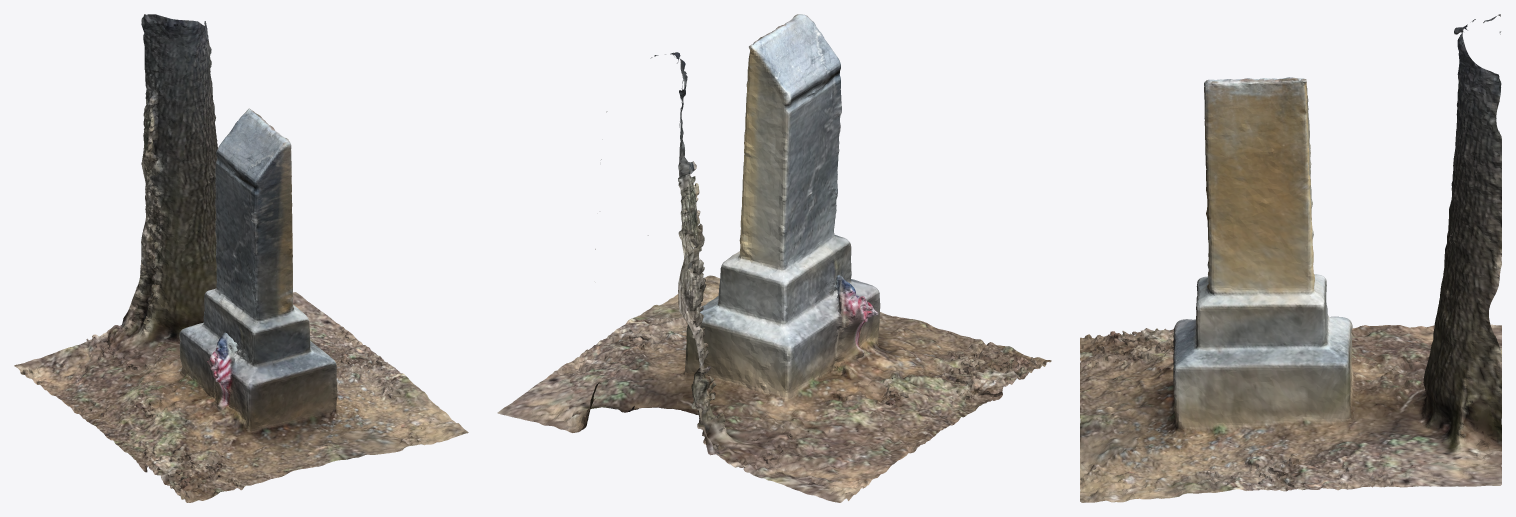
Rendered from crusor.glb.
3 renders of one model, left to right at view 1: azimuth 30°, elevation 25°; view 2: azimuth 150°, elevation 25°; view 3: azimuth 270°, elevation 25°, orthographic. The views are drawn at different scales.
Bounding box in the file's own units: 1.58 × 1.79 × 1.69.
Materials: 1 (1 with a texture image).
